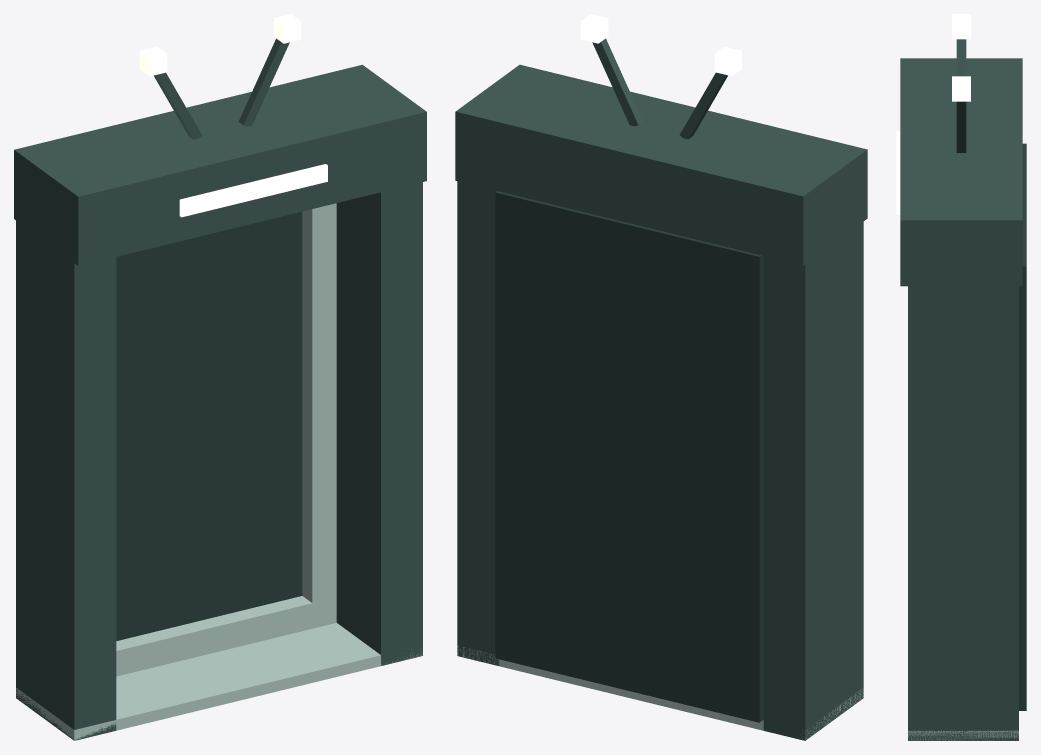
File: Goal_Frame.gltf
3 renders of one model, left to right at view 1: azimuth 30°, elevation 25°; view 2: azimuth 150°, elevation 25°; view 3: azimuth 270°, elevation 25°, orthographic. The views are drawn at different scales.
Visible parts, largest first — view 1: Goal_Frame_baked; view 2: Goal_Frame_baked; view 3: Goal_Frame_baked.
Boxes of the visible parts, bbox=[...] form: Goal_Frame_baked: bbox=[14, 14, 426, 740]; Goal_Frame_baked: bbox=[455, 14, 867, 740]; Goal_Frame_baked: bbox=[896, 14, 1026, 740].
Size of the model in its own units: 2 by 3.52 by 0.68.
